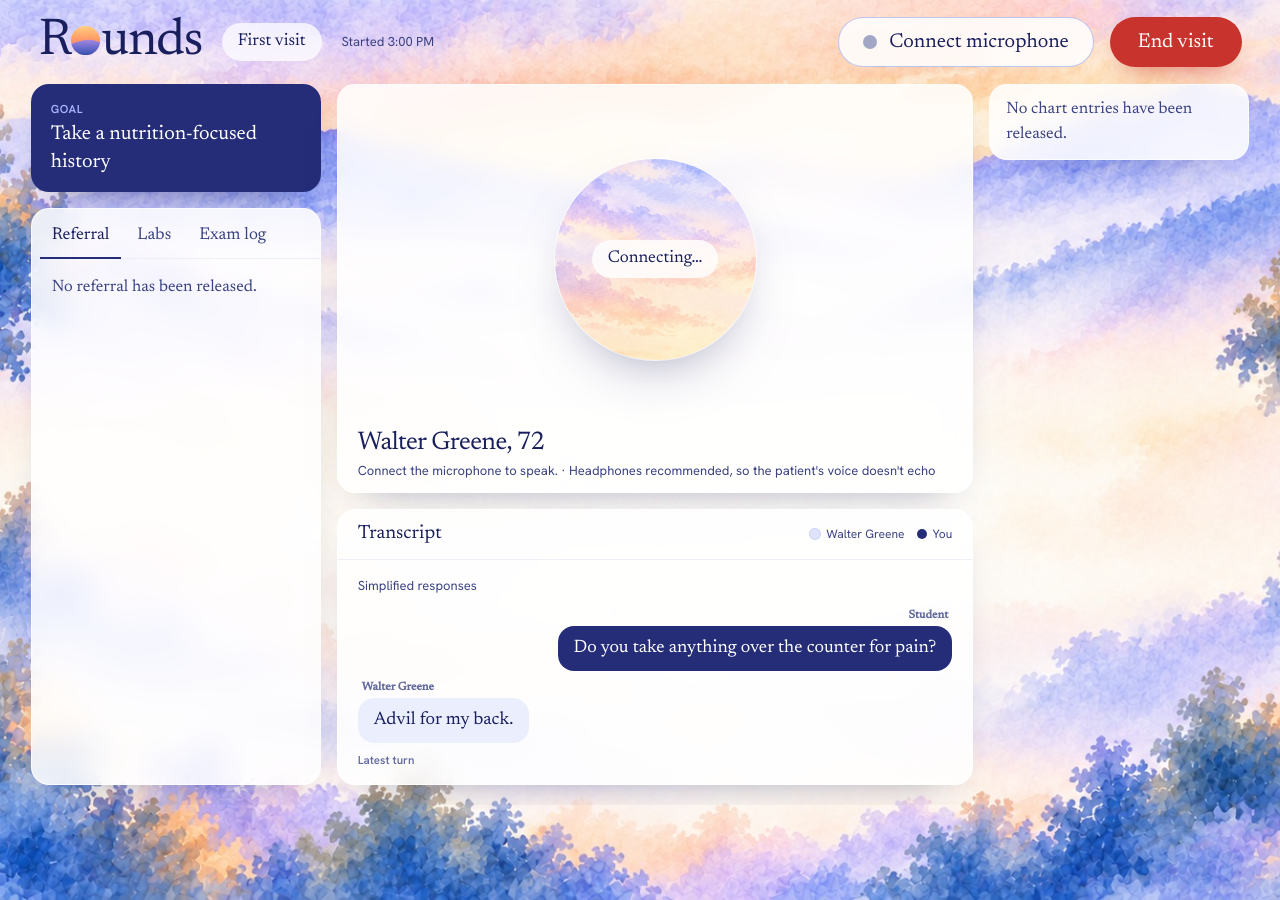
a failed end stays on the visit and does not open the note
Click the button "Connect microphone" at (966, 42), box [838,17,1094,67]
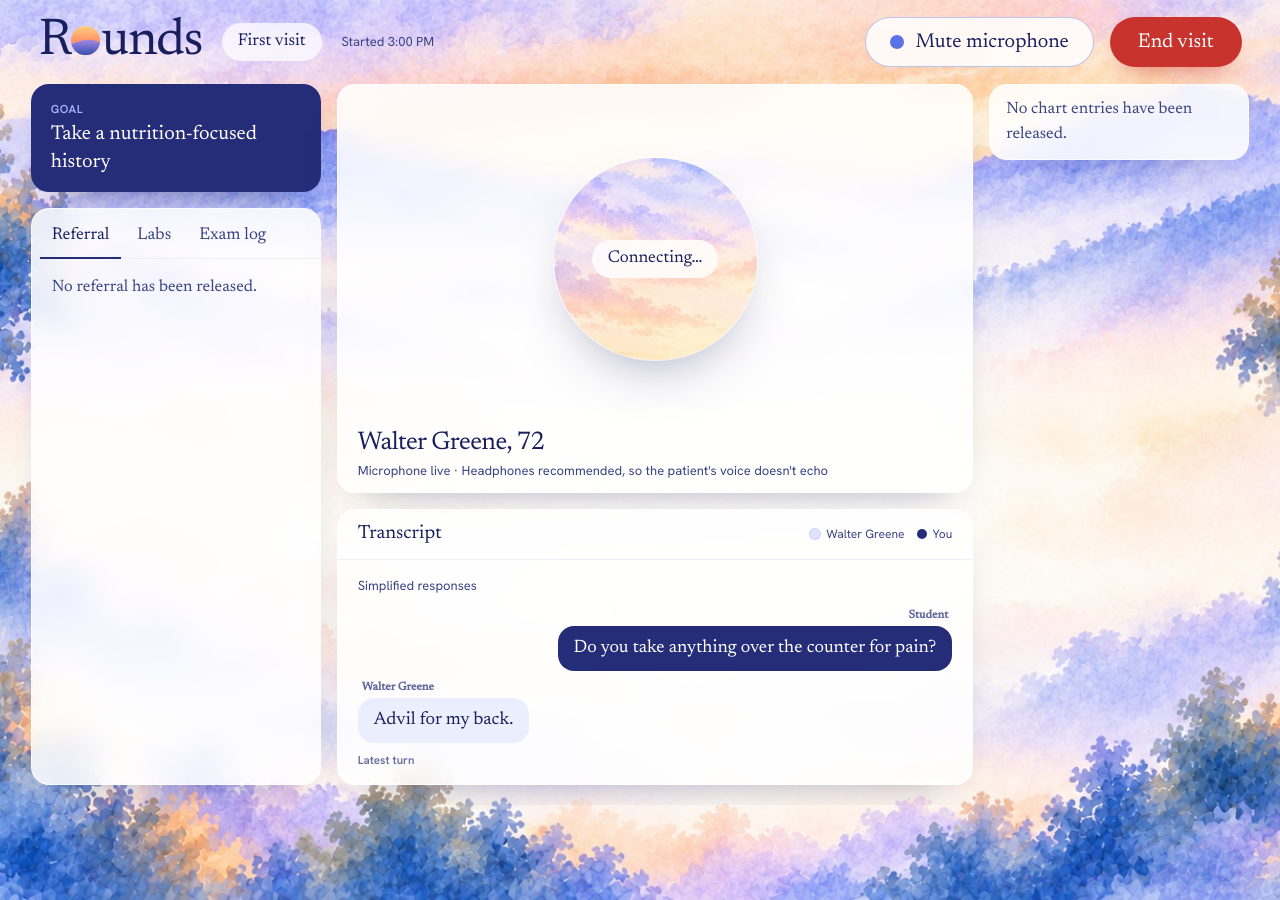
Click the button "End visit" at (1176, 42), box [1110,17,1242,67]
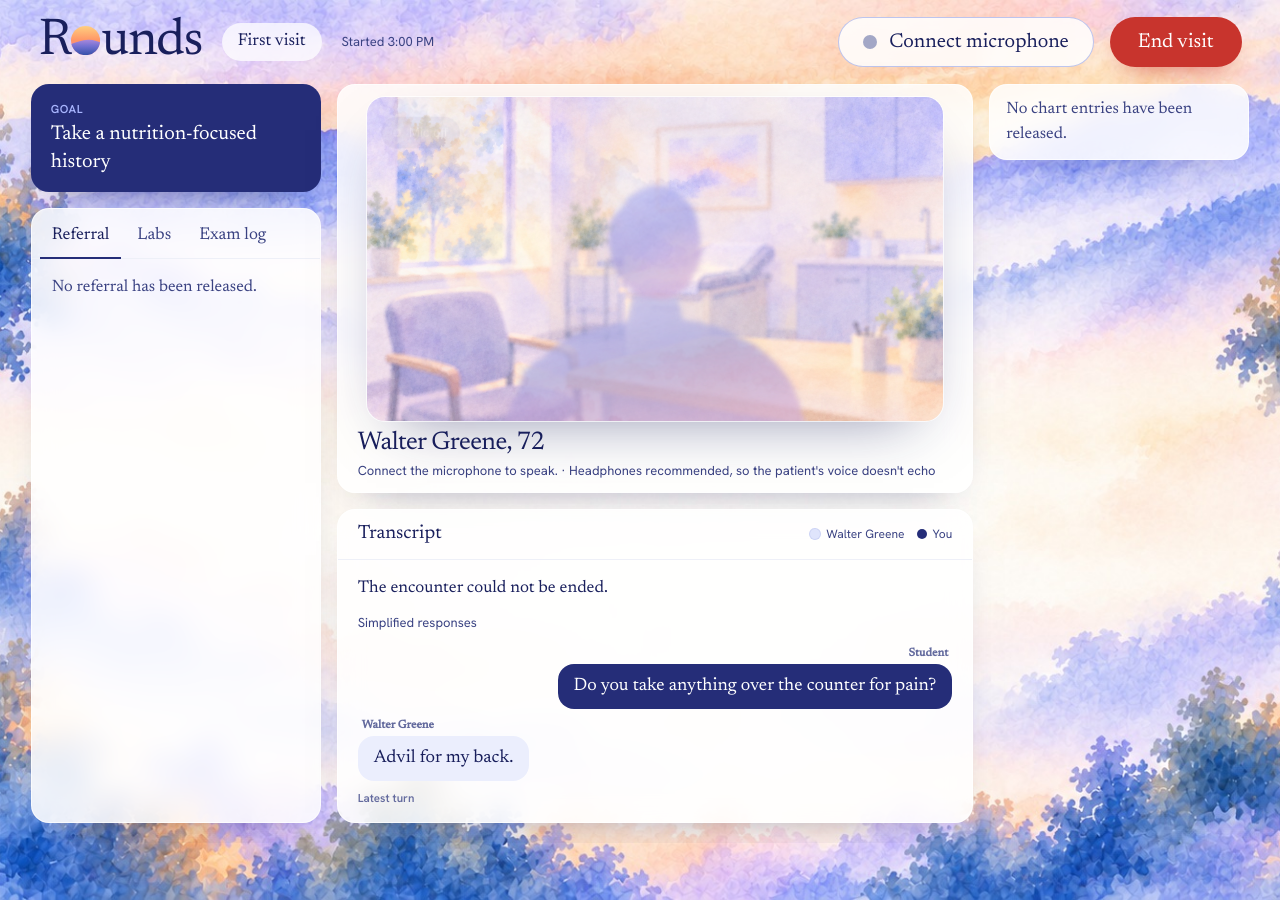
Expected: the text "The encounter could not be ended." is shown, [358,580,608,597]
